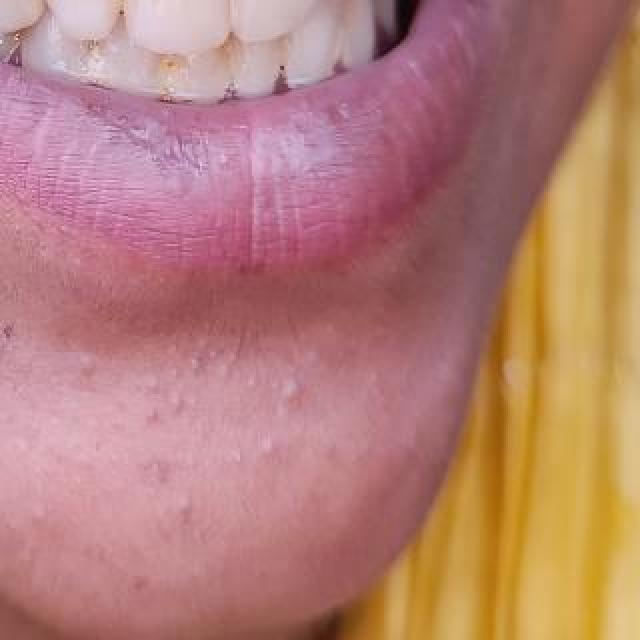plaque: (151, 21, 195, 109), (81, 15, 115, 97), (265, 29, 309, 91), (201, 41, 247, 87), (92, 0, 152, 26), (200, 0, 252, 26)
